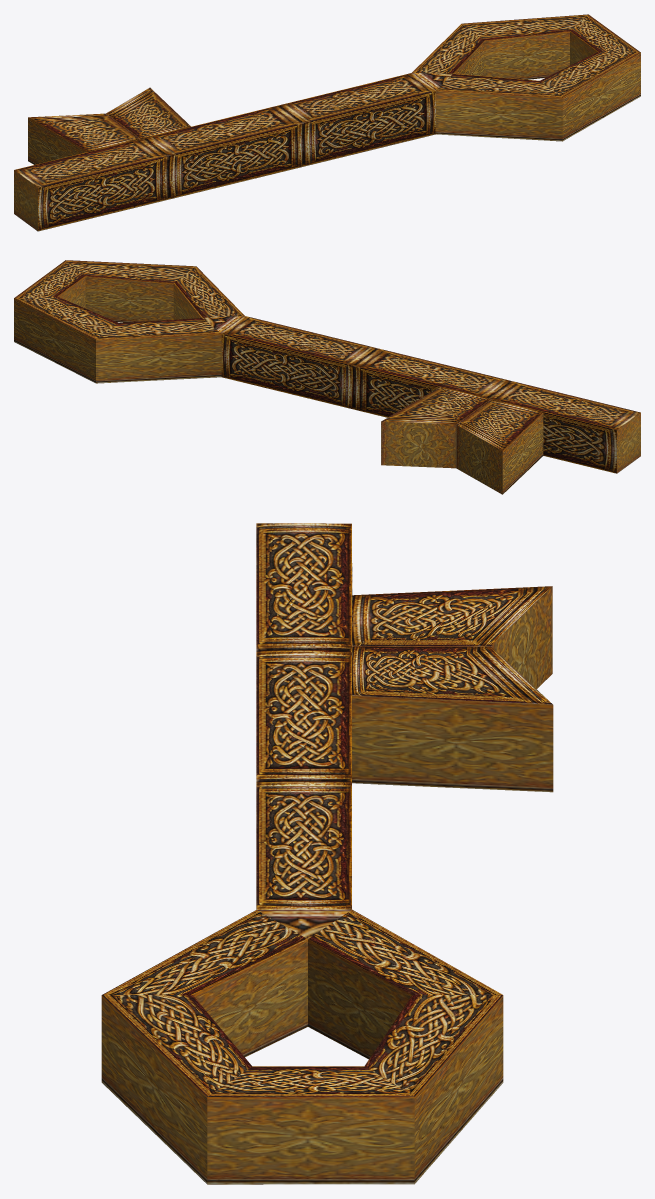
The model's file is mm9_deco_bookkey.glb.
3 renders of one model, top to bottom at view 1: azimuth 30°, elevation 25°; view 2: azimuth 150°, elevation 25°; view 3: azimuth 270°, elevation 25°, orthographic. The views are drawn at different scales.
Parts seen in each view (by area): view 1: Bookkey; view 2: Bookkey; view 3: Bookkey.
Boxes of the visible parts, x1=… form: Bookkey: x1=14, y1=14, x2=640, y2=231; Bookkey: x1=14, y1=260, x2=640, y2=494; Bookkey: x1=101, y1=523, x2=553, y2=1184.
Bounding box in the file's own units: 0.3026 × 0.0215 × 0.1007.
Materials: 1 (1 with a texture image).
